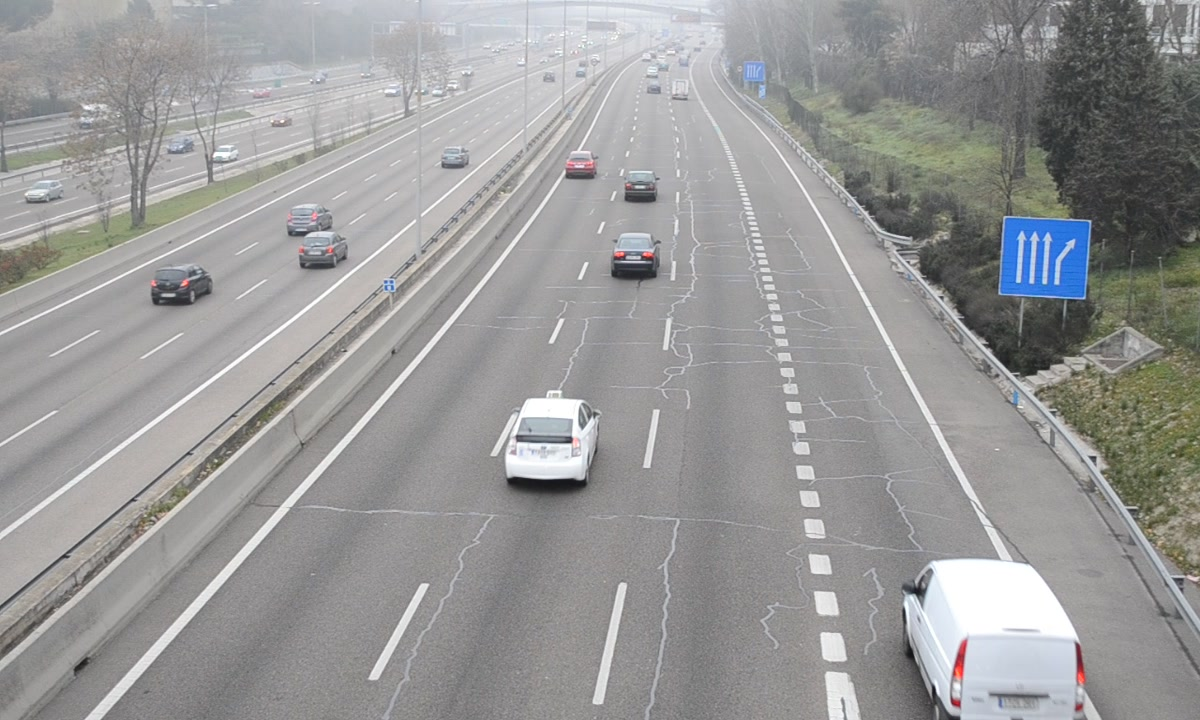car: (504, 398, 598, 480), (612, 231, 659, 276), (624, 170, 657, 201), (564, 150, 598, 179)
van: (904, 558, 1085, 720)
